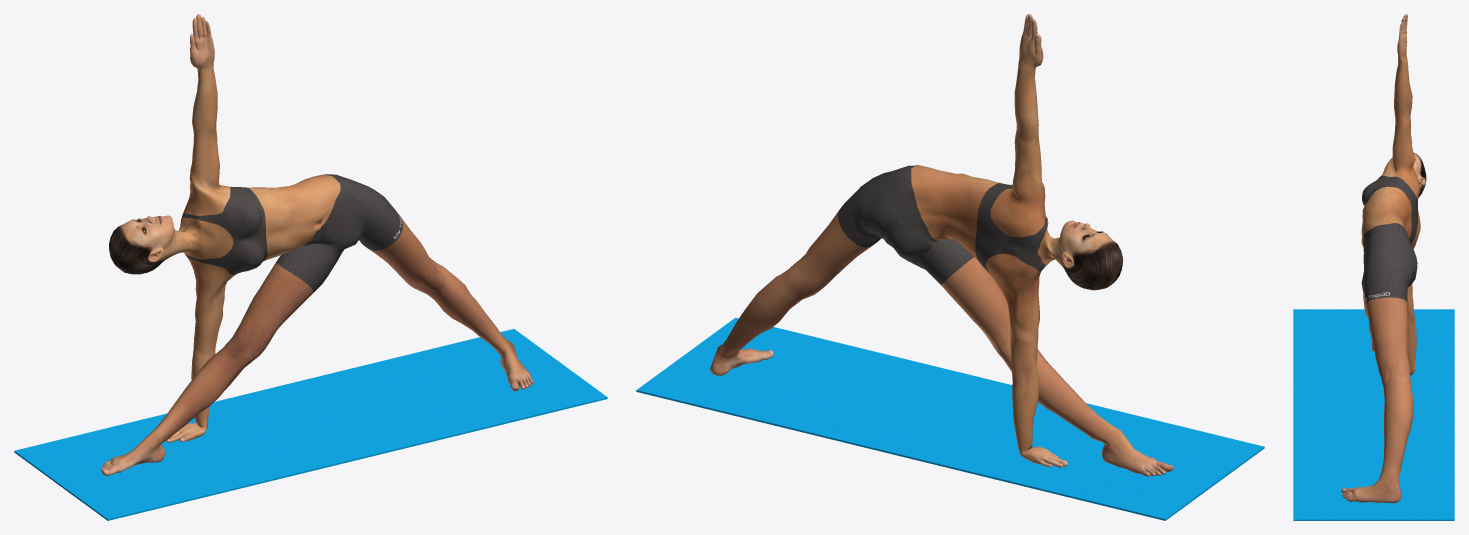
Rendered from trikonasana.glb.
The picture shows the model from 3 angles, left to right: view 1: azimuth 30°, elevation 25°; view 2: azimuth 150°, elevation 25°; view 3: azimuth 270°, elevation 25°; orthographic projection. The views are drawn at different scales.
Parts seen in each view (by area): view 1: mat_001-material, FemaleSkin-material; view 2: mat_001-material, FemaleSkin-material; view 3: mat_001-material, FemaleSkin-material.
Part boxes in pixels (left/top/right/bottom): mat_001-material: left=14, top=329, right=607, bottom=520; FemaleSkin-material: left=100, top=14, right=533, bottom=475; mat_001-material: left=636, top=317, right=1264, bottom=520; FemaleSkin-material: left=710, top=14, right=1173, bottom=476; mat_001-material: left=1293, top=309, right=1454, bottom=520; FemaleSkin-material: left=1341, top=14, right=1426, bottom=503.
Size of what is drawn, in the model's own units: 6.17 by 4.96 by 2.
2 materials, 2 textured.
